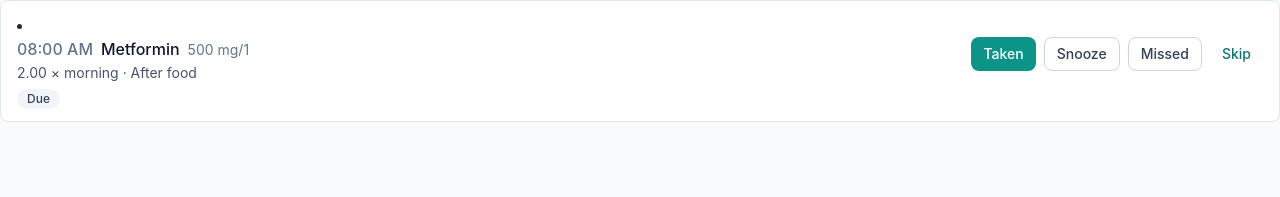
Test: DoseCard › surfaces the server message when an action is rejected
Click the button "Taken" at coordinates (1004, 54), box [972, 37, 1036, 71]
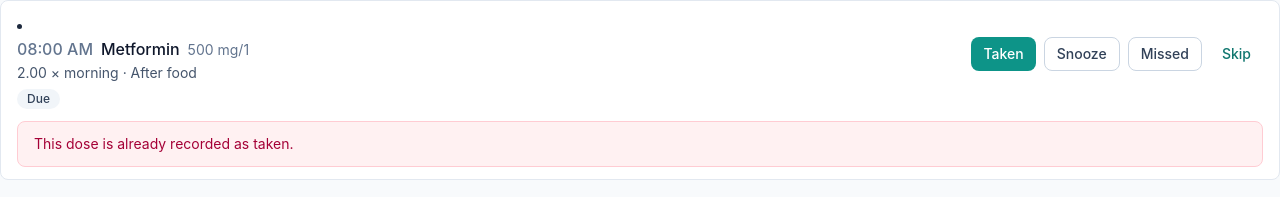
Expected: the message shows "already recorded as taken", [34, 135, 294, 152]
